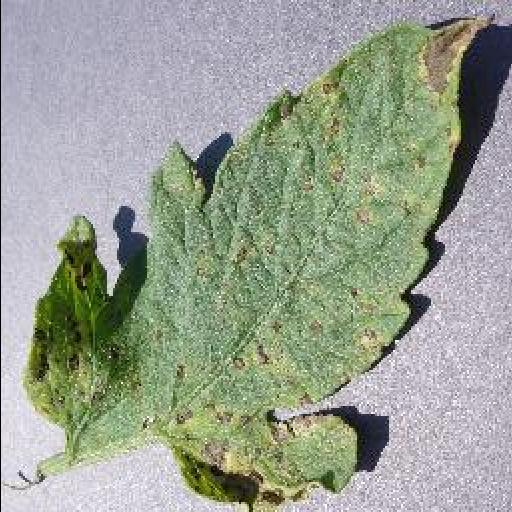disease_tomato: (26, 12, 492, 512)
